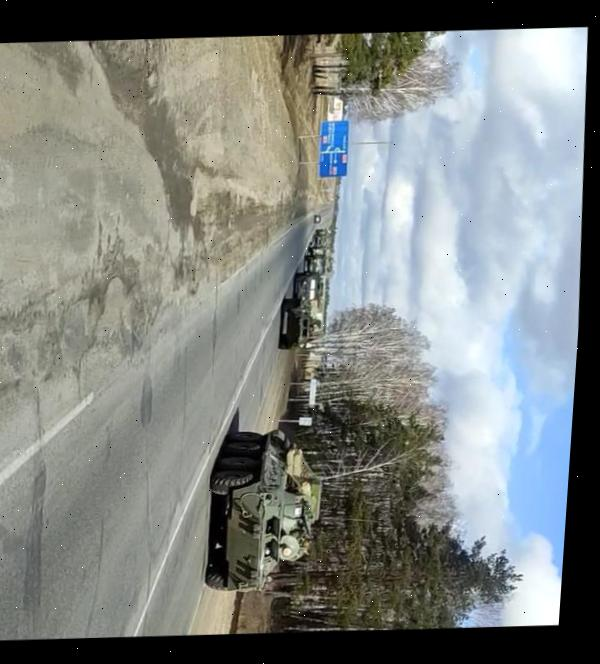armored_car: (287, 268, 325, 299)
car: (313, 211, 323, 224)
tank: (188, 428, 332, 587), (274, 299, 326, 352)
truck: (300, 252, 331, 273), (307, 230, 333, 248)
